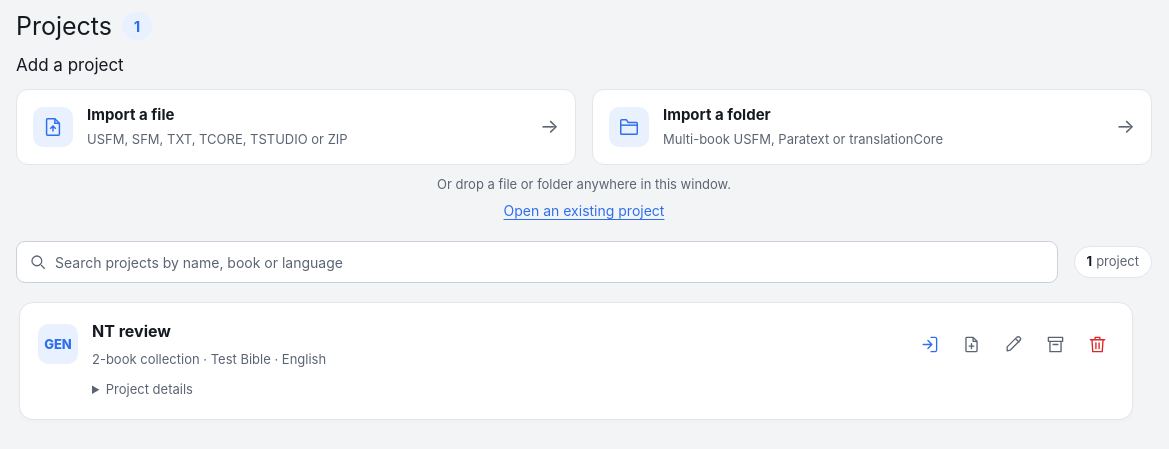
Test: ImportScreen projects list (#238) › renames through the engine and shows the display name over the import's name
Expected: the text "NT review" is shown, x1=92 y1=321 x2=171 y2=341
Click the button named "Rename NT review". click: (1013,344)
box: x1=996 y1=327 x2=1030 y2=361
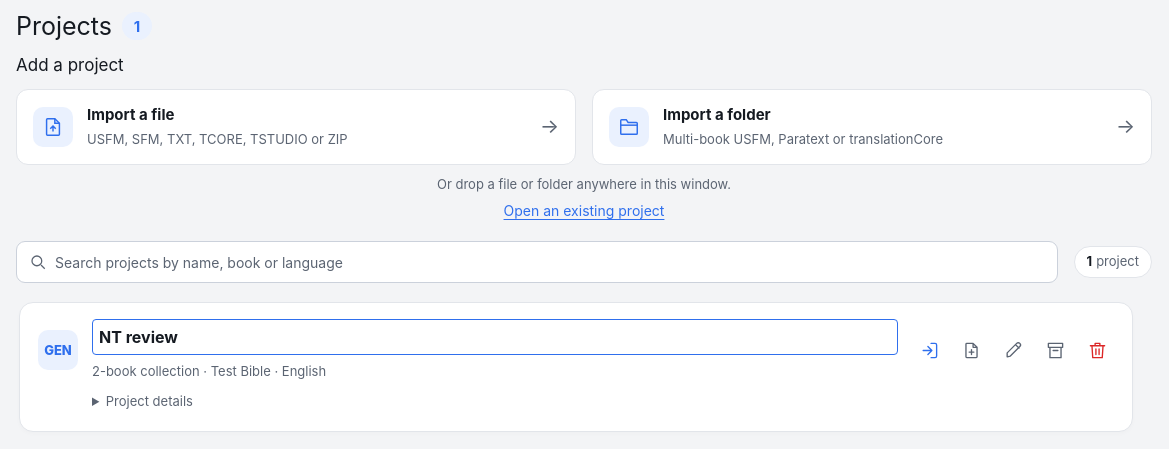
Now the field named "Project name" holds "NT review"
Replace the text in the field named "Project name" with "Genesis study". click: (495,337)
box: x1=92 y1=319 x2=898 y2=355
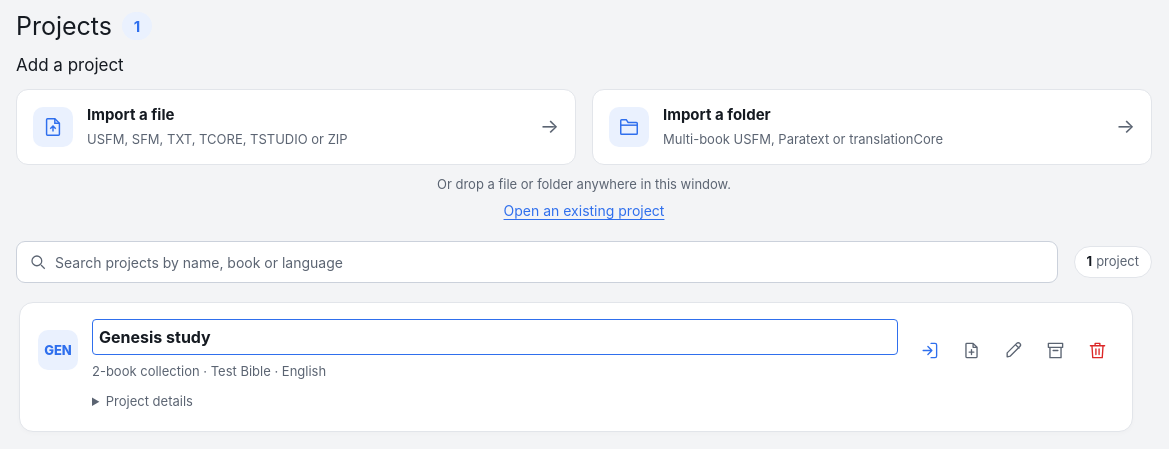
Press Enter in the field named "Project name", box x1=92 y1=319 x2=898 y2=355
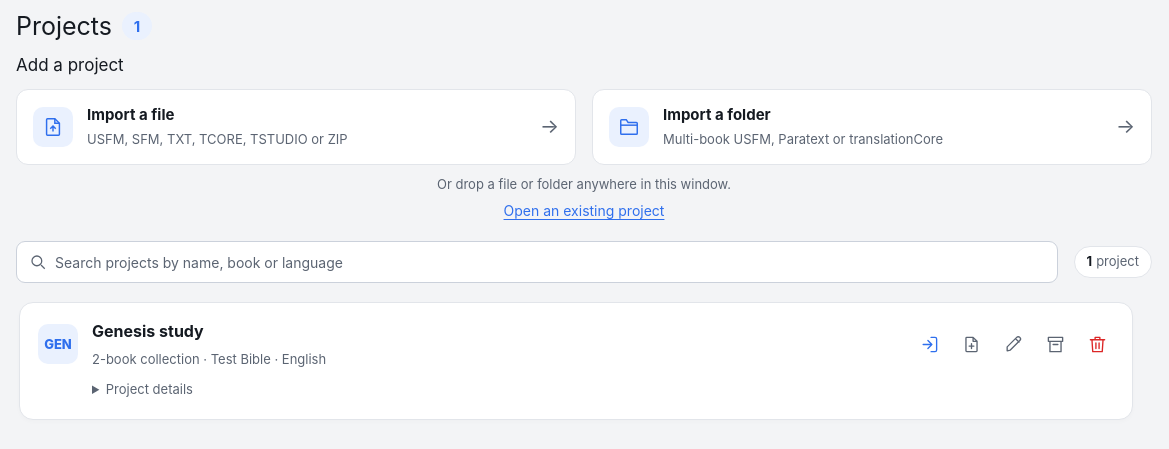
Expected: the text "NT review" is not shown
Now the text "Genesis study" is shown, box x1=92 y1=321 x2=204 y2=341
